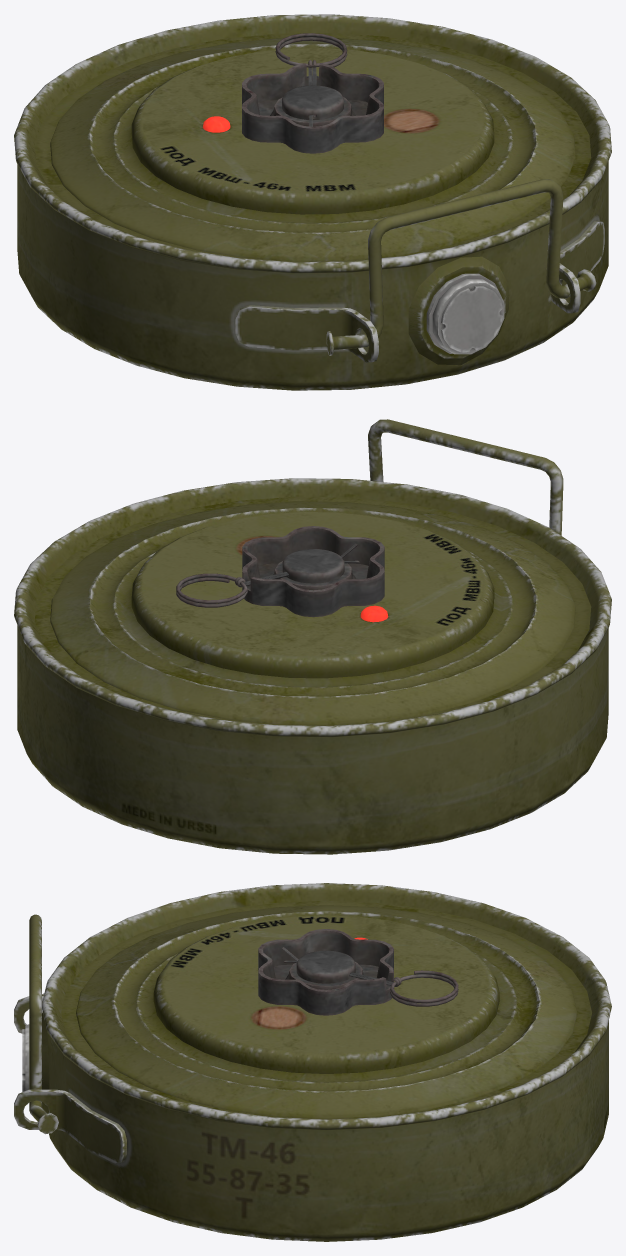
File: land_mine_tm-46.glb
The picture shows the model from 3 angles, top to bottom: view 1: azimuth 30°, elevation 25°; view 2: azimuth 150°, elevation 25°; view 3: azimuth 270°, elevation 25°; orthographic projection. The views are drawn at different scales.
Visible parts, largest first — view 1: 2_low, 1_low, 3_low, 4_low, 5_low; view 2: 2_low, 1_low, 4_low, 5_low; view 3: 2_low, 1_low, 3_low, 4_low, 5_low.
Part boxes in pixels (x1,y1,x2,y2): 2_low: (14, 14, 611, 390); 1_low: (242, 63, 383, 153); 3_low: (235, 221, 604, 362); 4_low: (326, 179, 596, 355); 5_low: (275, 33, 347, 126); 2_low: (14, 478, 611, 854); 1_low: (242, 526, 384, 617); 4_low: (368, 419, 563, 535); 5_low: (176, 543, 359, 607); 2_low: (22, 883, 611, 1241); 1_low: (258, 929, 393, 1015); 3_low: (14, 996, 126, 1163); 4_low: (29, 914, 58, 1134); 5_low: (282, 947, 458, 1006).
Bounding box in the file's own units: 30.45 × 10.16 × 31.91.
Materials: 1 (1 with a texture image).
